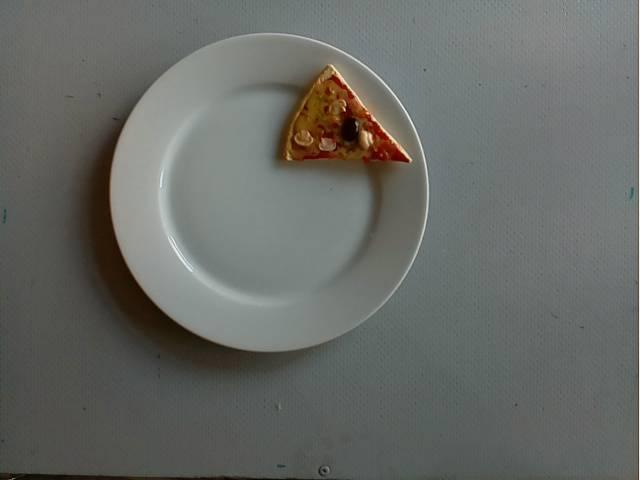Pizza slice (mushroom): (284, 64, 411, 166)
